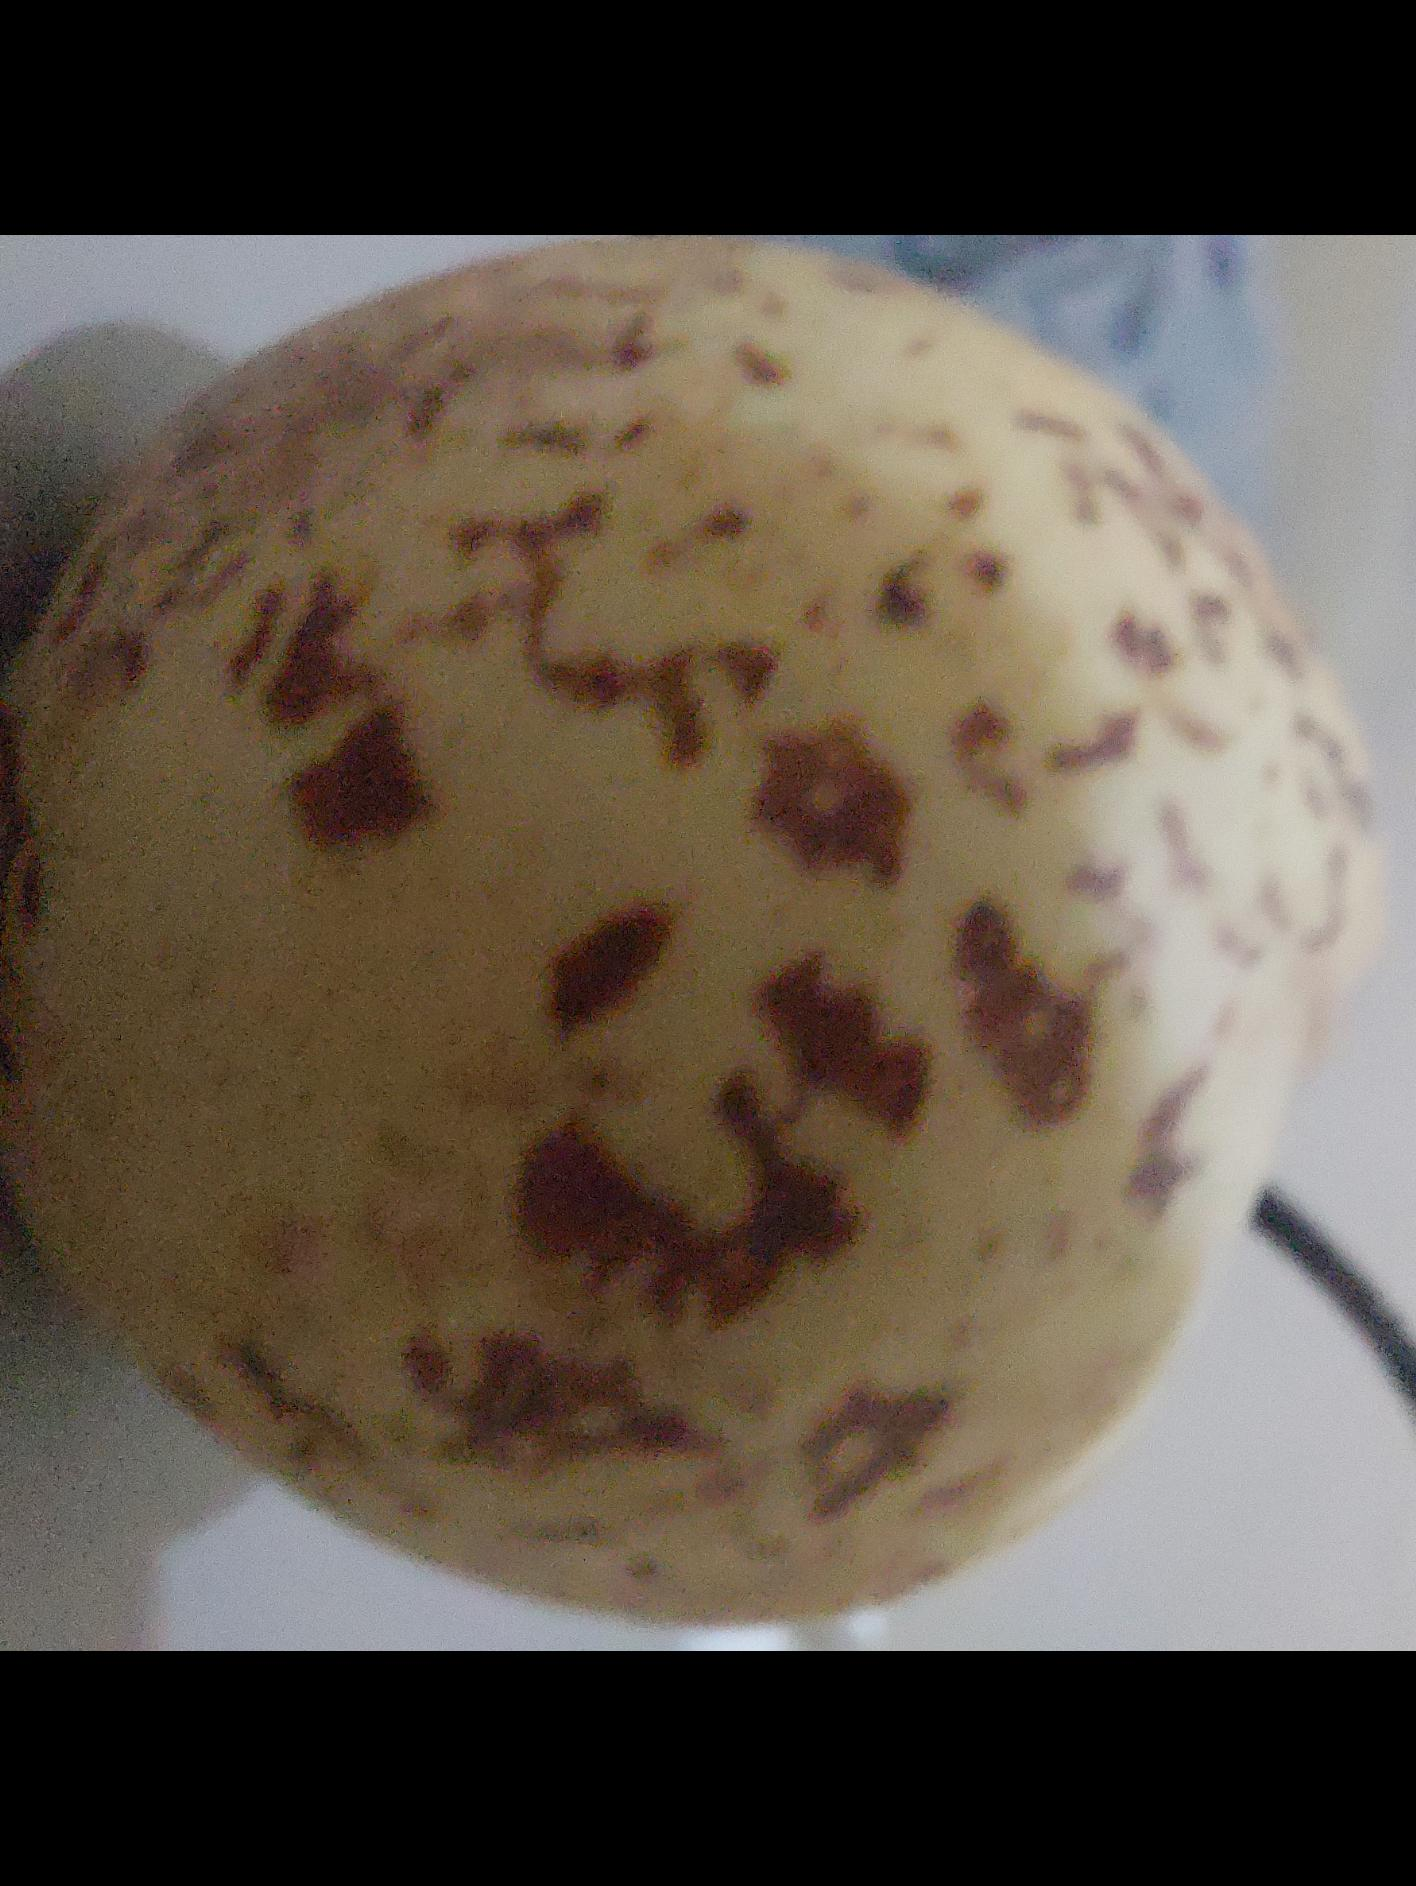Bad Pear: (0, 242, 1416, 1651)
